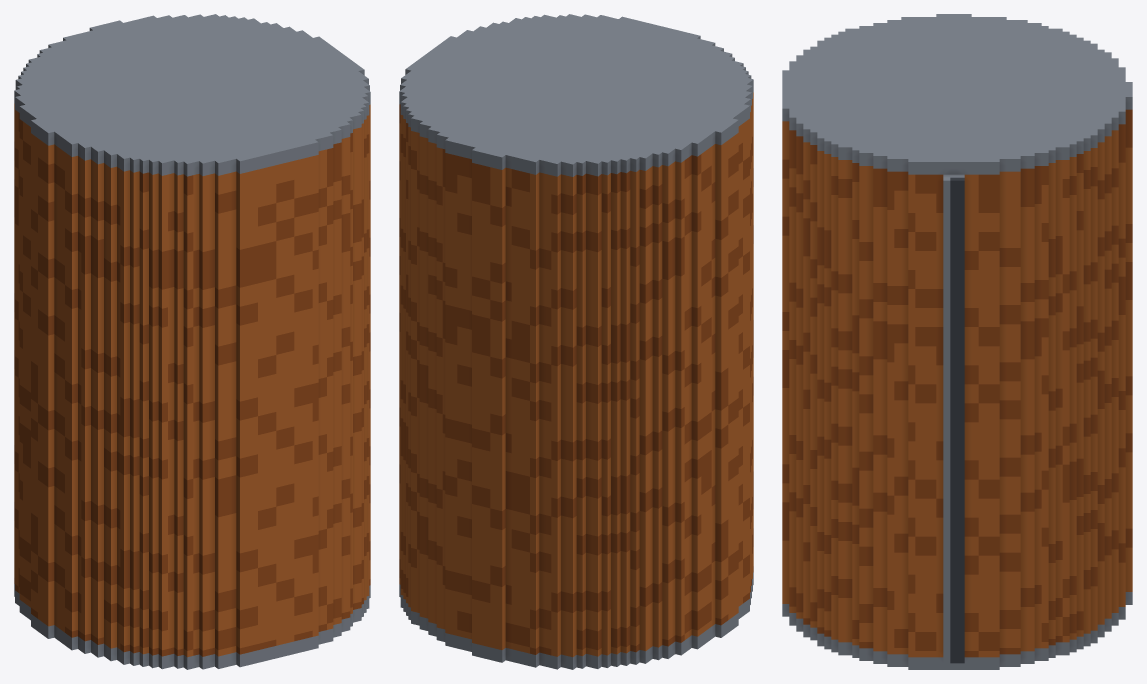
The model's file is tank_hydrolox_m4.glb.
3 renders of one model, left to right at view 1: azimuth 30°, elevation 25°; view 2: azimuth 150°, elevation 25°; view 3: azimuth 270°, elevation 25°, orthographic.
Parts seen in each view (by area): view 1: tank_hydrolox_m4; view 2: tank_hydrolox_m4; view 3: tank_hydrolox_m4.
Part boxes in pixels (x1,y1,x2,y2): tank_hydrolox_m4: [14, 14, 370, 669]; tank_hydrolox_m4: [399, 14, 753, 669]; tank_hydrolox_m4: [782, 14, 1132, 669].
Bounding box in the file's own units: 2.6 × 4 × 2.5.
